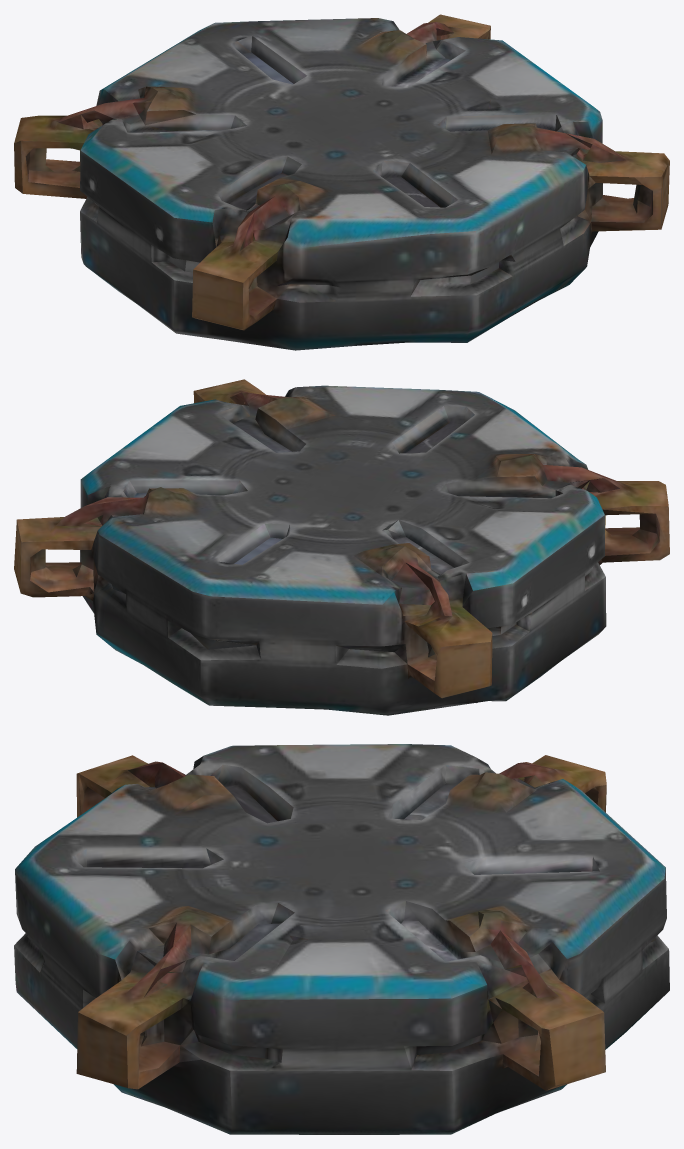
3 renders of one model, top to bottom at view 1: azimuth 30°, elevation 25°; view 2: azimuth 150°, elevation 25°; view 3: azimuth 270°, elevation 25°, orthographic. The views are drawn at different scales.
Visible parts, largest first — view 1: body; view 2: body; view 3: body.
Boxes of the visible parts, x1,y1,x2,y2 form: body: (14, 14, 669, 350); body: (14, 379, 669, 715); body: (14, 744, 669, 1134).
Size of the model in its own units: 0.5465 by 0.1689 by 0.5503.
1 material, 1 textured.
